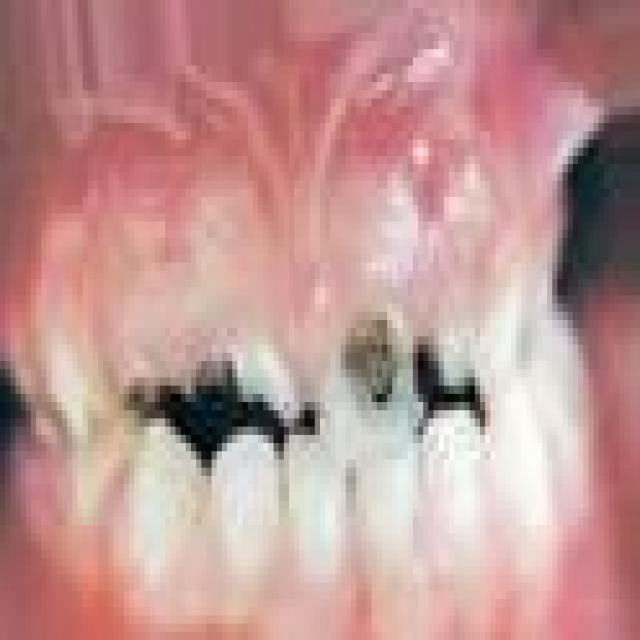caries: (319, 302, 424, 478)
